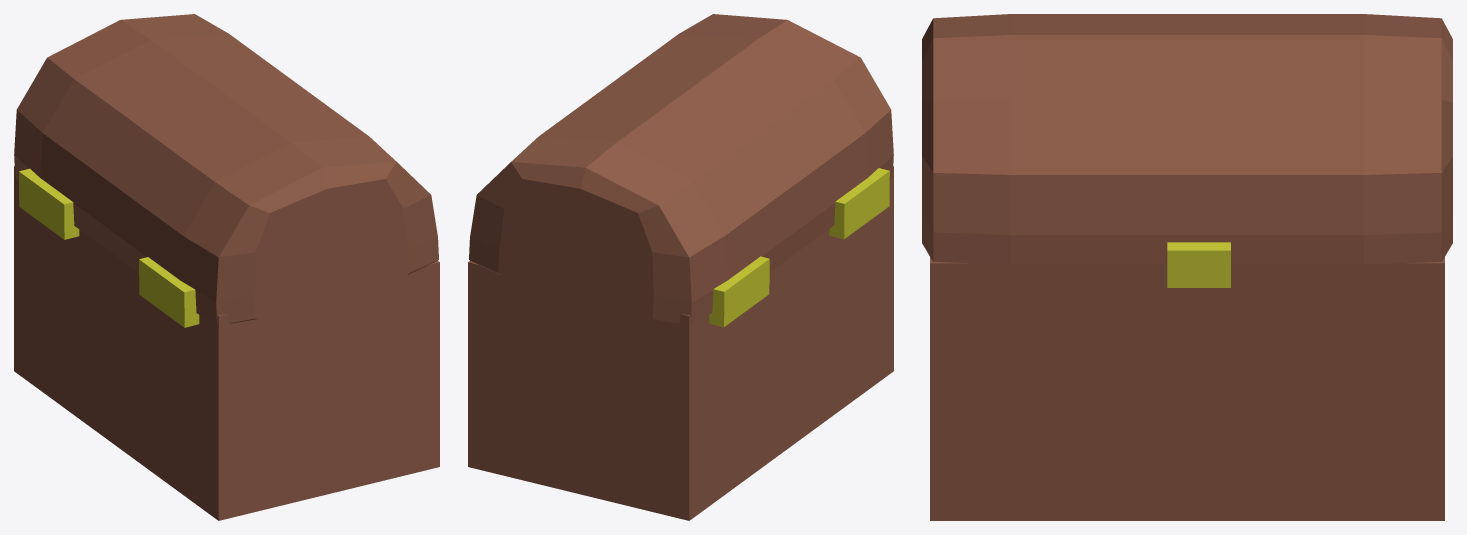
Rendered from bau_fechado.fbx.
The picture shows the model from 3 angles, left to right: view 1: azimuth 30°, elevation 25°; view 2: azimuth 150°, elevation 25°; view 3: azimuth 270°, elevation 25°; orthographic projection. The views are drawn at different scales.
Visible parts, largest first — view 1: Tampa bau.001, Corpo bau.001, Abre a caixa 2.001, Abre a caixa.001; view 2: Tampa bau.001, Corpo bau.001, Abre a caixa.001, Abre a caixa 2.001; view 3: Corpo bau.001, Tampa bau.001, Cube.001.
Boxes of the visible parts, <box> form: Tampa bau.001: <box>14,14,438,324</box>; Corpo bau.001: <box>14,166,439,520</box>; Abre a caixa 2.001: <box>139,257,199,327</box>; Abre a caixa.001: <box>19,168,79,239</box>; Tampa bau.001: <box>469,14,893,324</box>; Corpo bau.001: <box>468,166,893,520</box>; Abre a caixa.001: <box>709,256,769,327</box>; Abre a caixa 2.001: <box>829,168,889,239</box>; Corpo bau.001: <box>930,257,1444,520</box>; Tampa bau.001: <box>922,14,1452,264</box>; Cube.001: <box>1167,242,1230,287</box>.
Size of the model in its own units: 260 by 322 by 373.
